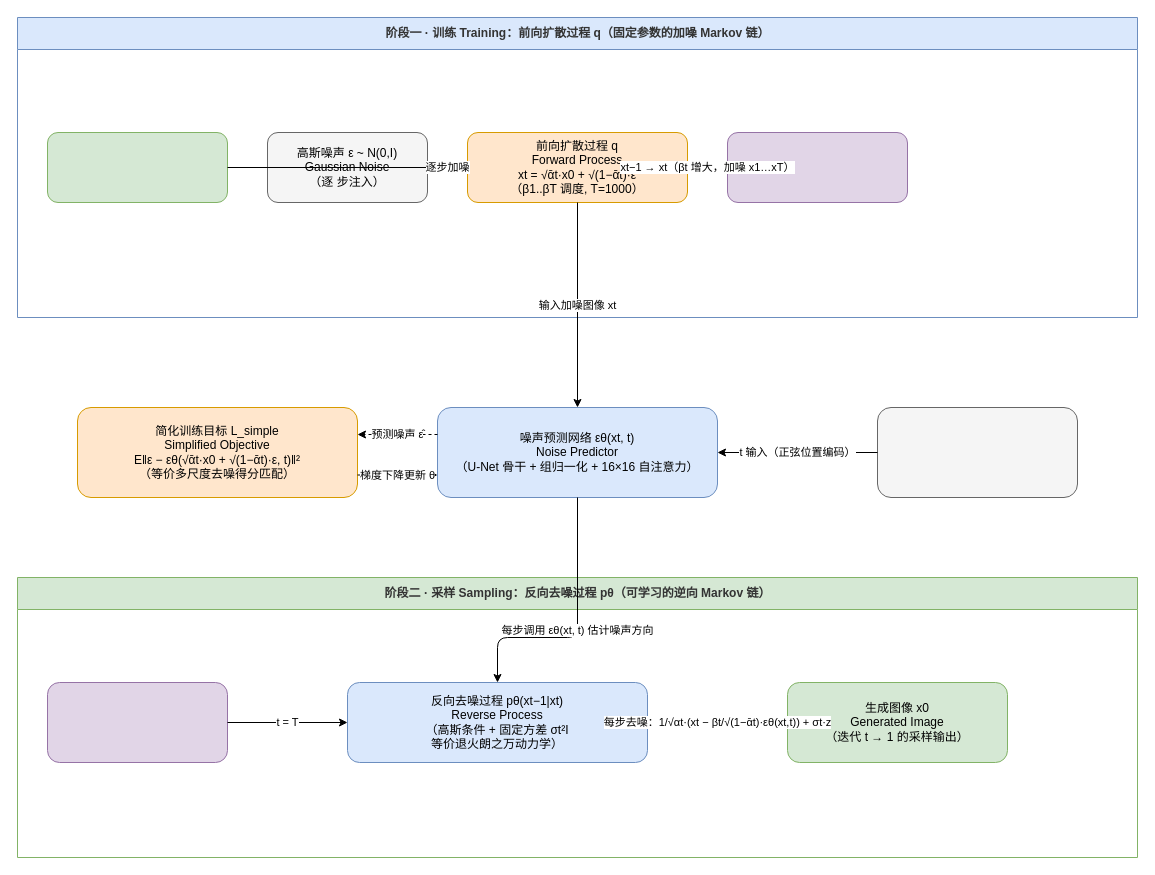
Some shapes in this 1155 by 875 pixel diagram are drawn without their labels. Each missing label, with the centre of its shape:
时间步 t Timestep t （Transformer 正弦位置编码 输入各层）: the point at 977,452
真实图像 x0 Real Image x0 （训练样本）: the point at 137,167
纯噪声 xT ≈ N(0,I) Pure Noise （训练终点，信号被破坏）: the point at 817,167
采样起点 xT ~ N(0,I) （与训练终点同分布）: the point at 137,722
